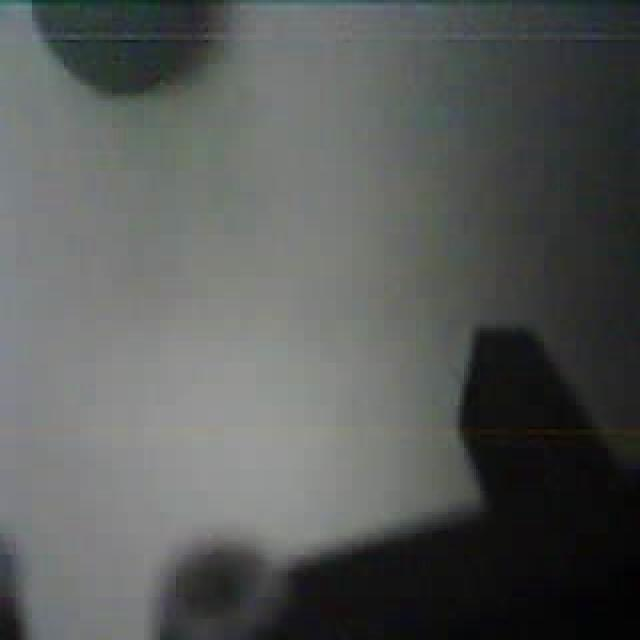green_ball: (28, 0, 222, 101)
